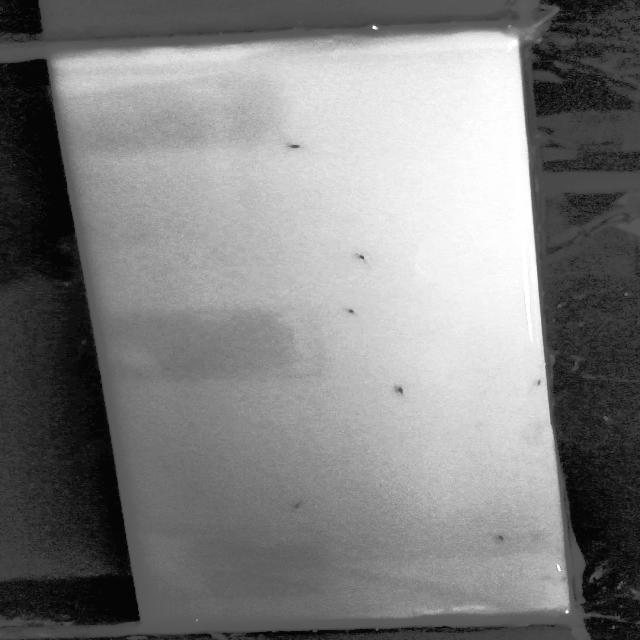shrimp: (334, 248, 380, 267), (283, 498, 323, 519), (275, 136, 307, 154), (380, 380, 410, 399), (332, 308, 379, 320), (494, 532, 516, 544)
